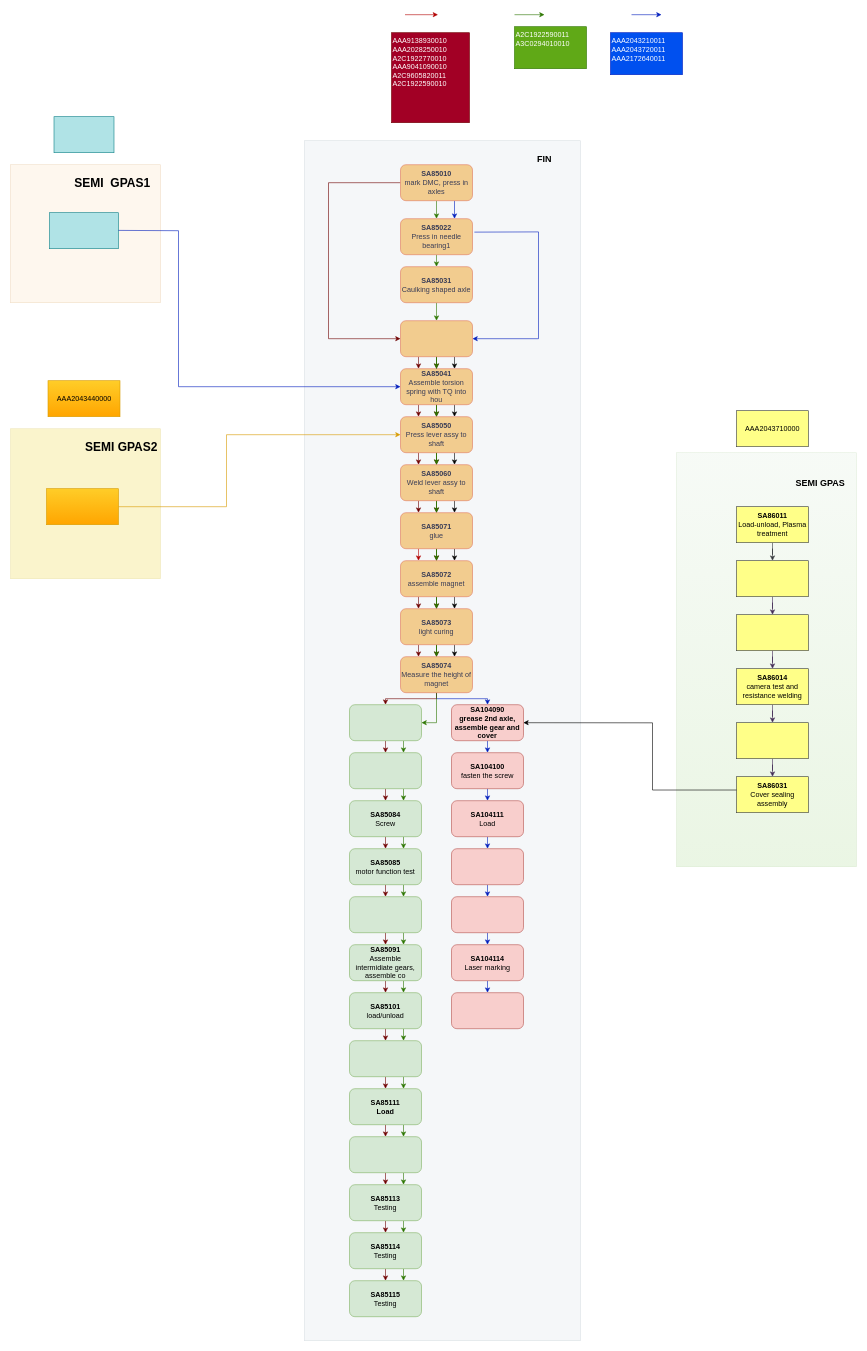
Image size: 867x1351. Some labels were removed from this diagram. Here are the shapes that lost their labels. From the top down, the centre of each, then its label:
[83,134]: AAA2043260000 A2C19228100
[83,230]: SA87018 TQ_Camera check and un-load
[436,338]: SA85033 Press in needle bearing2
[82,506]: SA87017 lever assy _camera check and un-load
[772,578]: SA86012 assemble sensor
[772,632]: SA86013 Heatstake sensor
[385,722]: SA85081 Load-unload
[772,740]: SA86015 Camera detection
[385,770]: SA85082 Measure the height of magnet
[487,866]: SA104112 Programming
[385,914]: SA85086 Grease axles
[487,914]: SA104113 Testing
[487,1010]: SA104115 unload and camera test
[385,1058]: SA85102 Clips assembly and camera test
[385,1154]: SA85112 Programming
